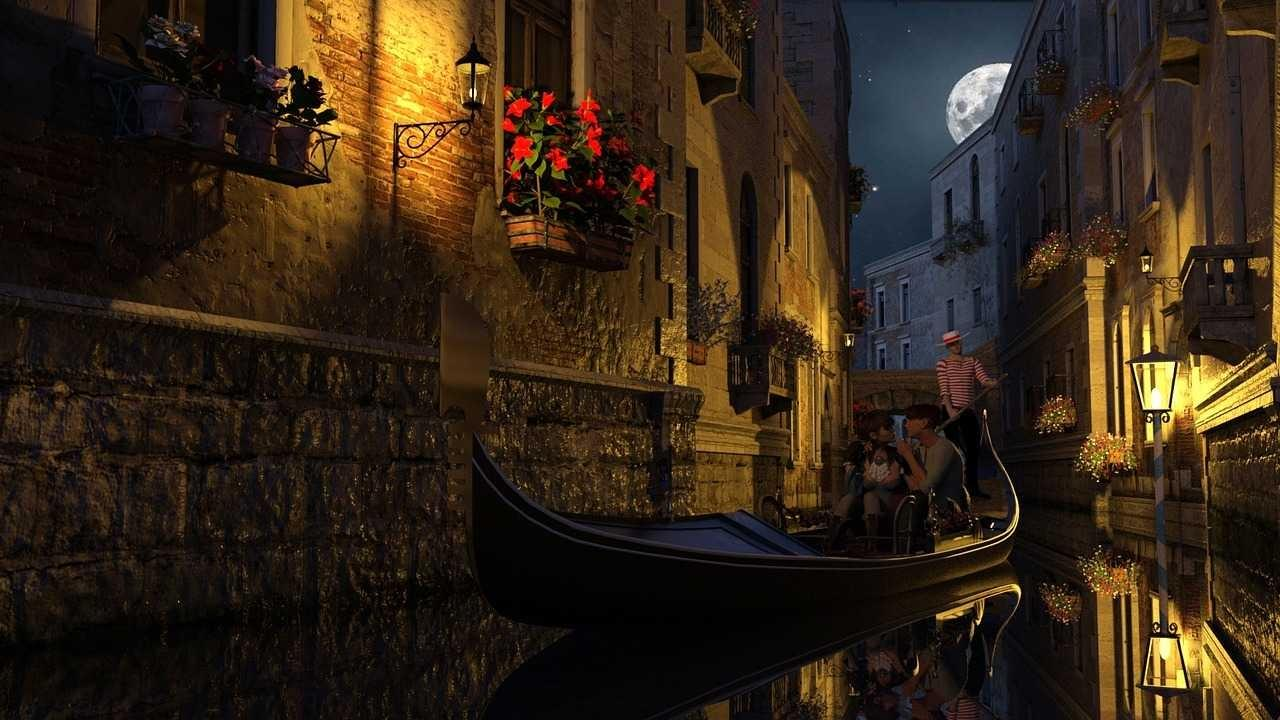kayak: (466, 428, 1023, 619)
